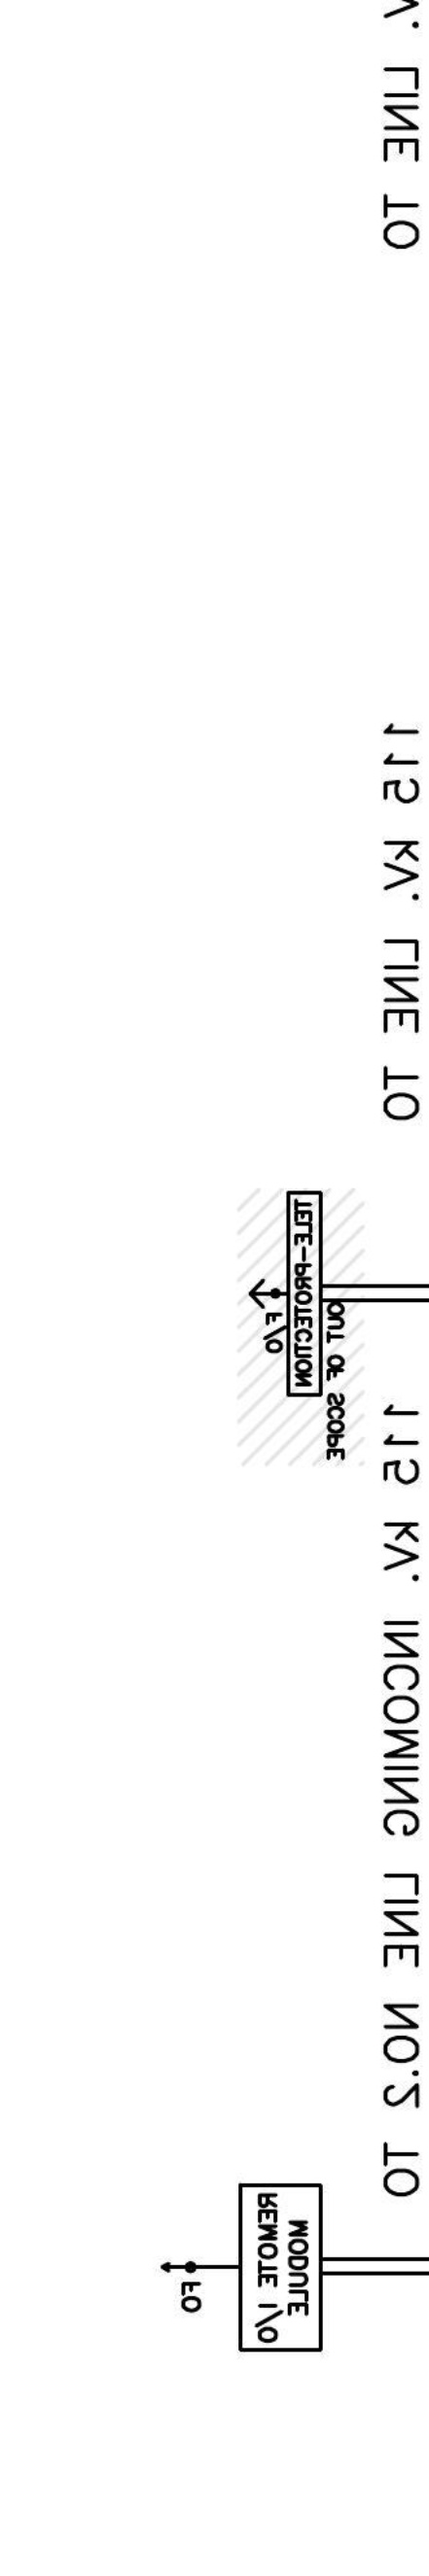remote_io_module: (238, 2183, 324, 2353)
tele_protection: (286, 1189, 324, 1398)
